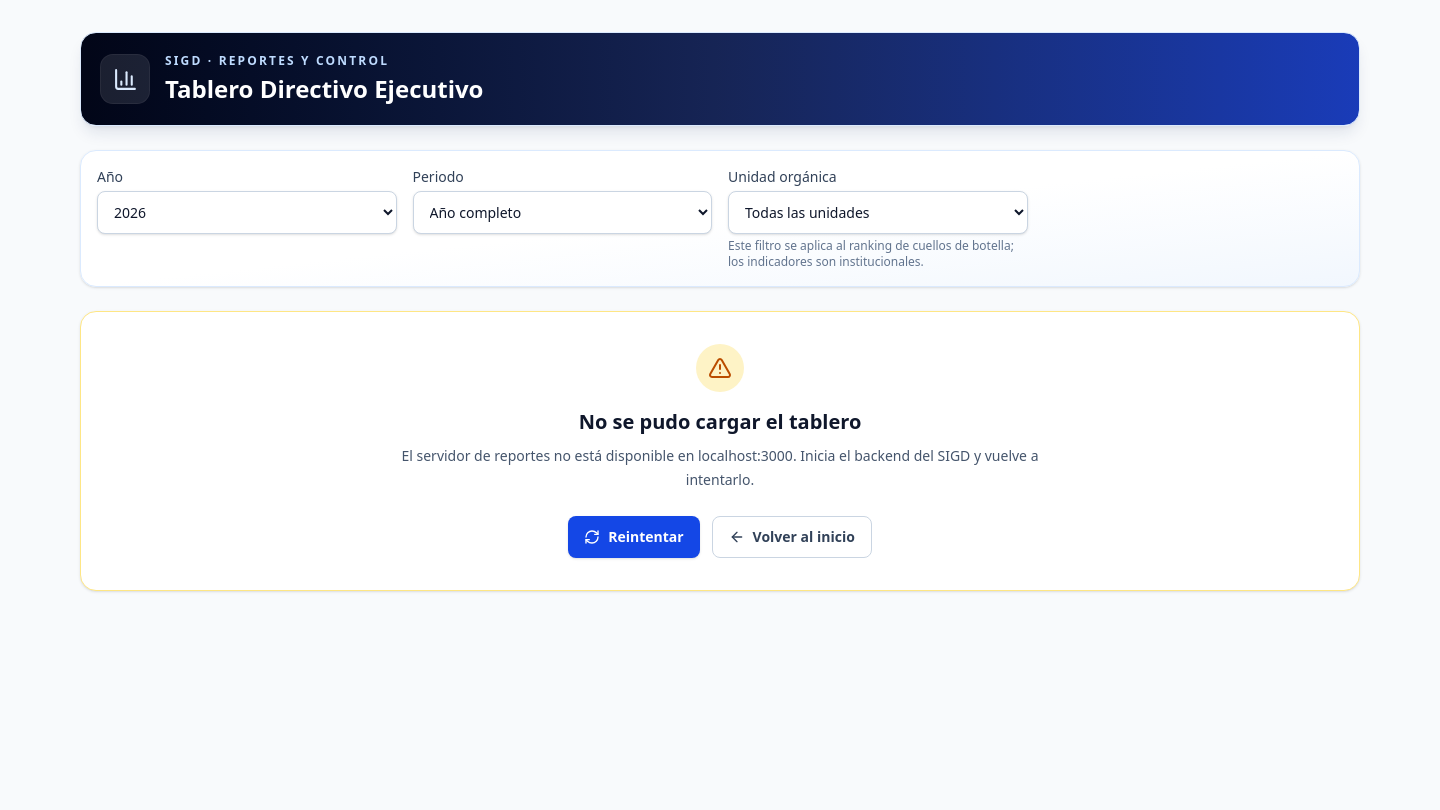
Test: DashboardEjecutivoPage filtros reactivos › permite reintentar la consulta tras un error de red
Expected: the text "El servidor de reportes no está disponible en localhost:3000" is shown, [402,446,1038,489]
Click the button "Reintentar": (634, 537) [568,516,700,558]
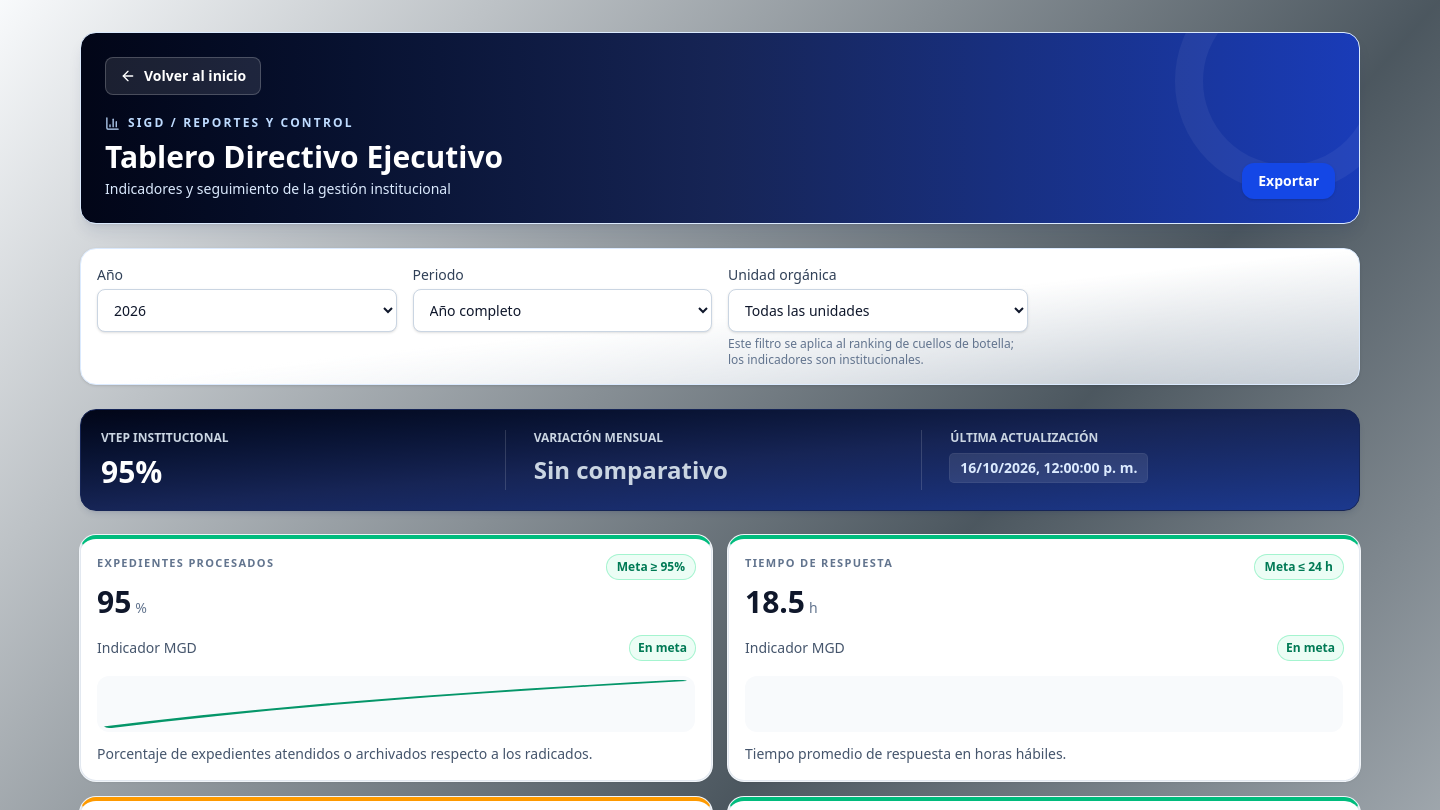
Expected: the text "Expedientes procesados" is shown, [97,555,274,572]
